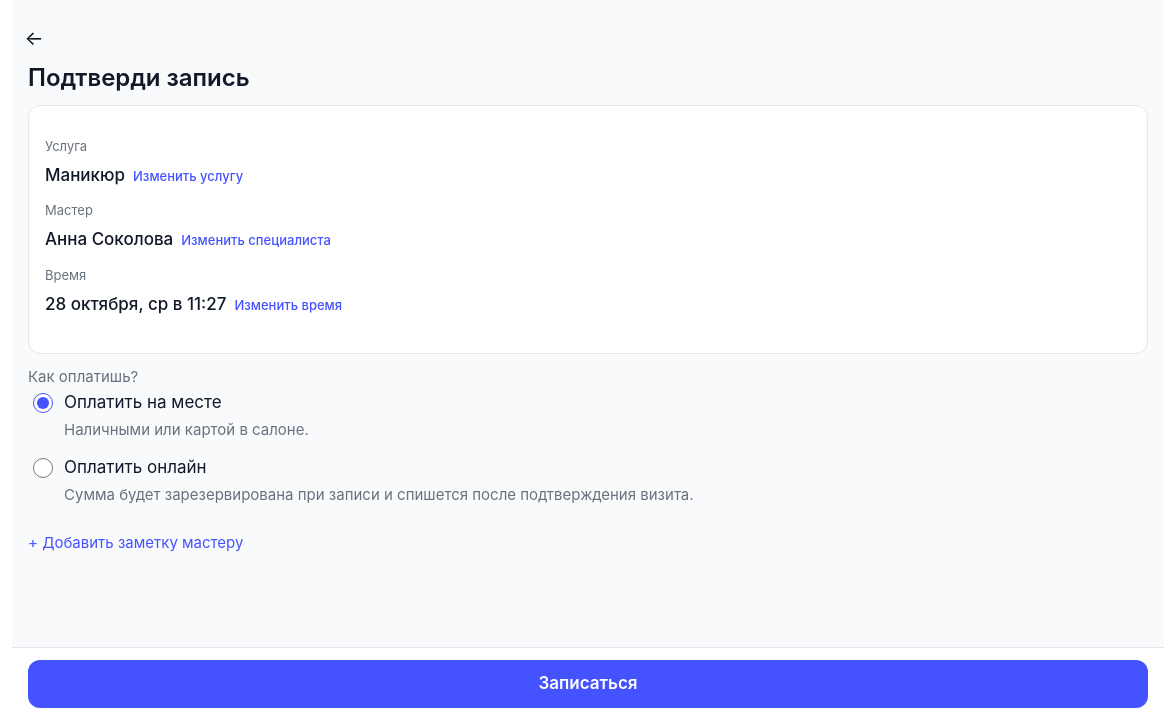
C1 neutral unavailable message (contract §2) › shows the neutral text + alternatives, never the debt reason
The image size is (1164, 720).
Click the button "Записаться" at coordinates (588, 684), box [28,660,1148,708]
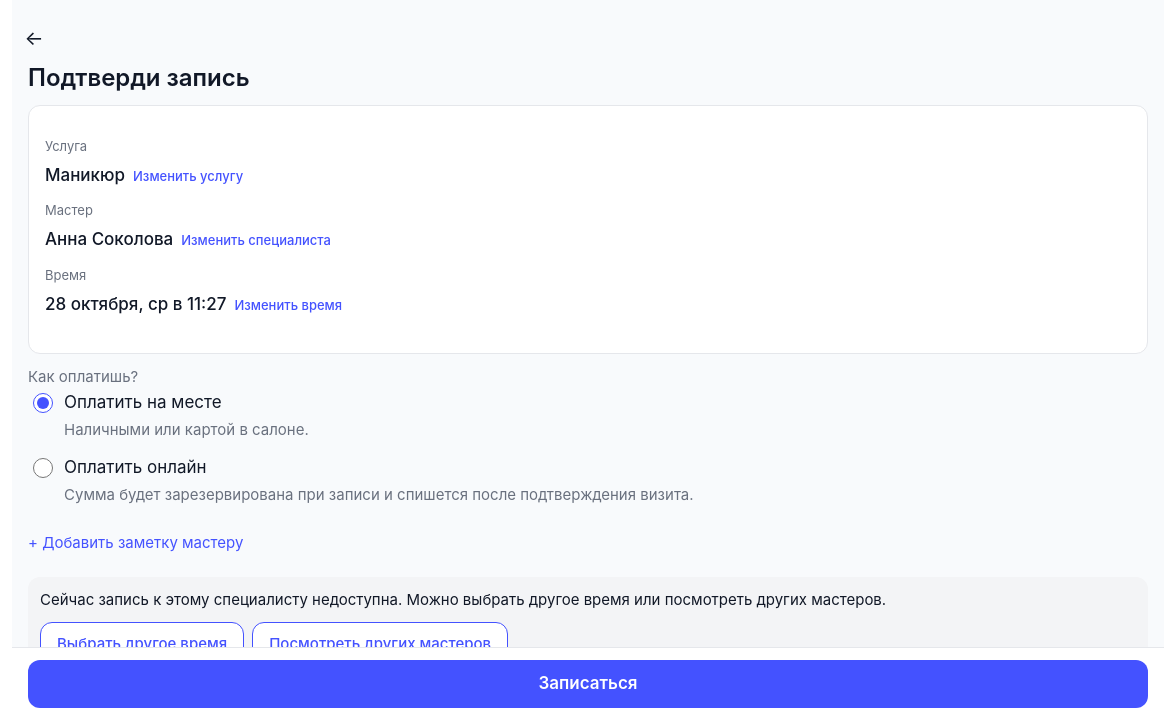
Result: the text "Сейчас запись к этому специалисту недоступна" is shown at [40,590,886,608]
Result: the button "Выбрать другое время" is shown at [40,622,244,666]
Result: the button "Посмотреть других мастеров" is shown at [252,622,508,666]
